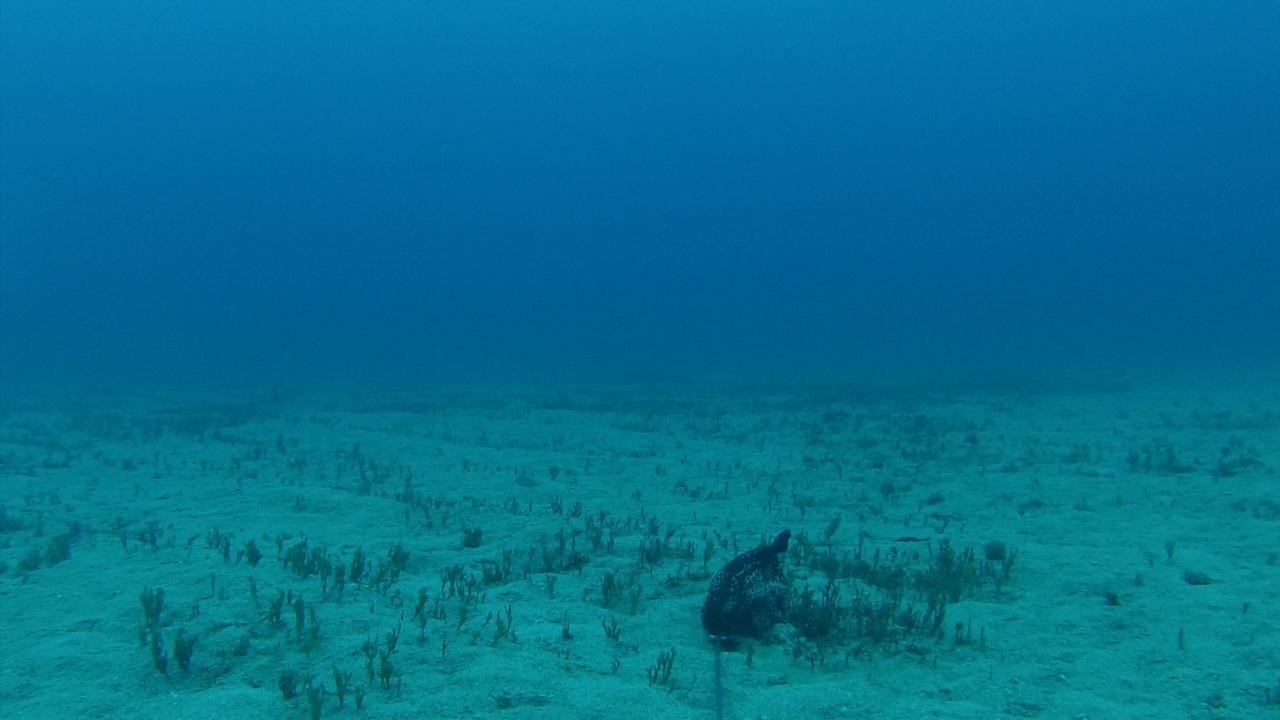bothus: (855, 508, 936, 543)
